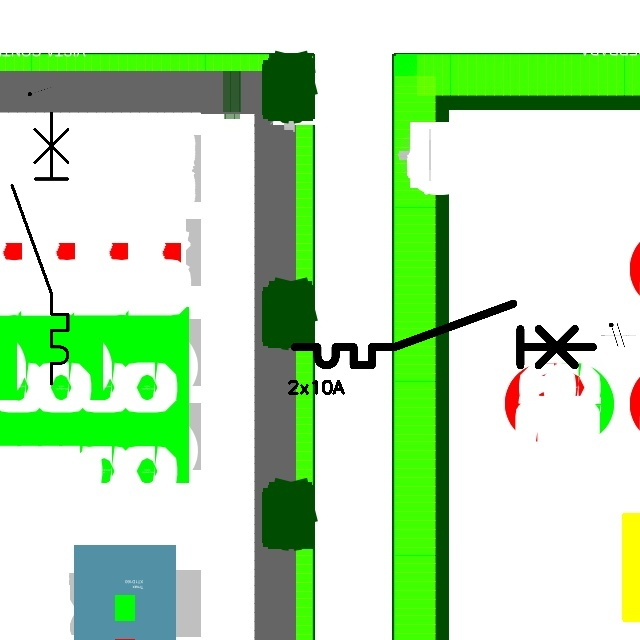interruptor_termomagnetico: (287, 296, 600, 373), (5, 106, 75, 391)
